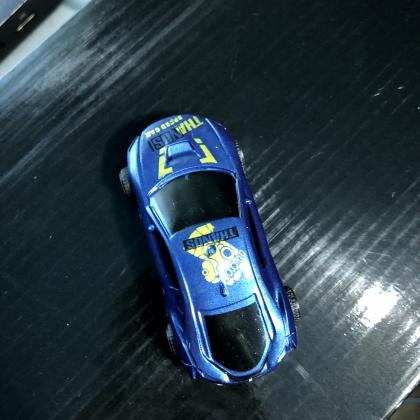Car: (119, 115, 298, 386)
